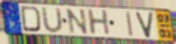D: (20, 5, 43, 34)
H: (86, 8, 112, 37)
I: (125, 10, 135, 38)
N: (65, 8, 90, 36)
U: (40, 7, 65, 34)
V: (135, 11, 155, 39)
